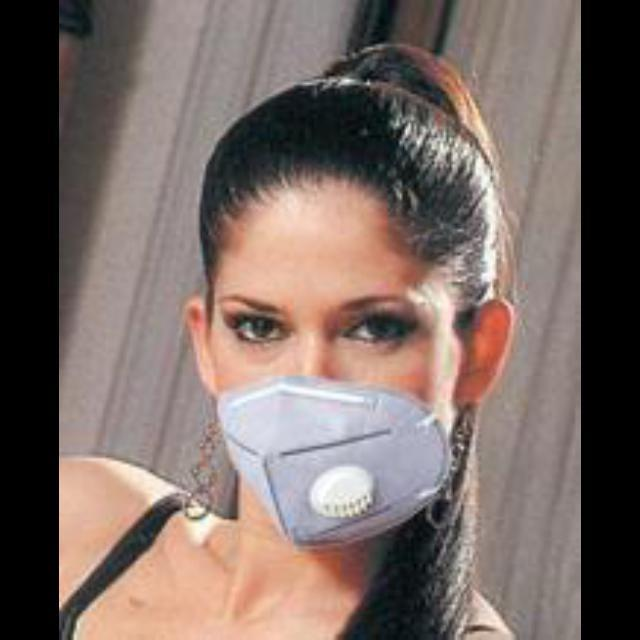suspicion: (211, 23, 484, 560)
